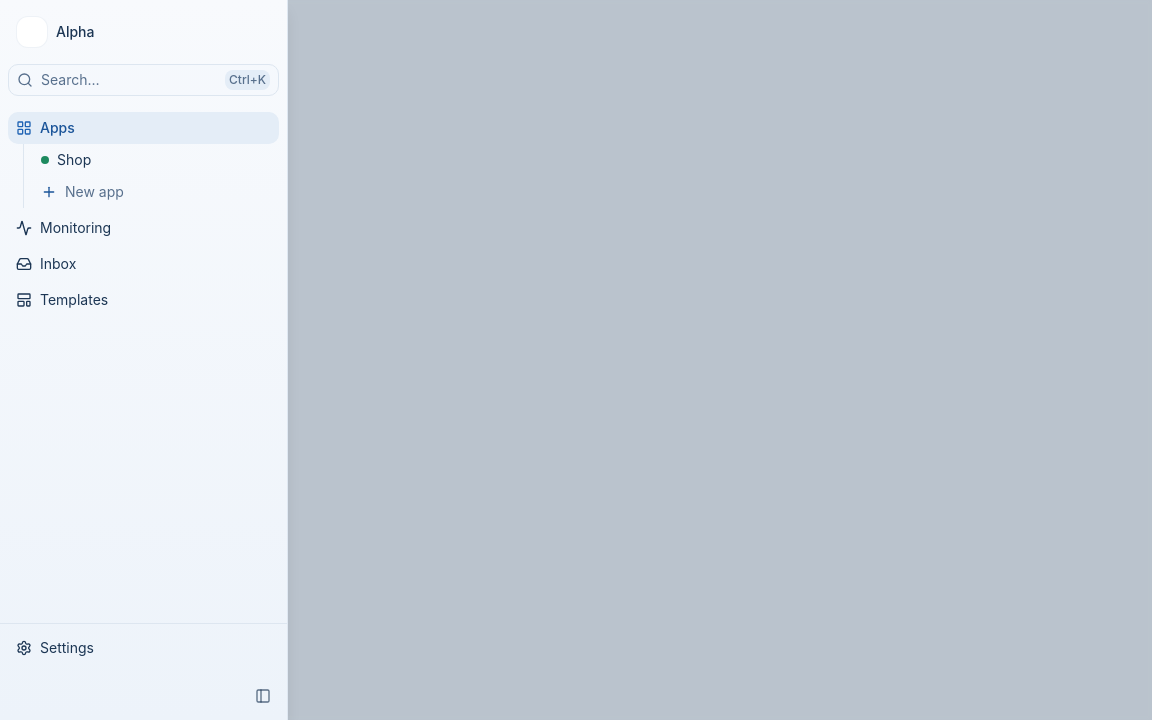
it: AppSidebar › opens the New app chooser from the sidebar, closing the phone sheet first
Click the button "New app". click: (144, 192)
box: [33, 178, 255, 206]
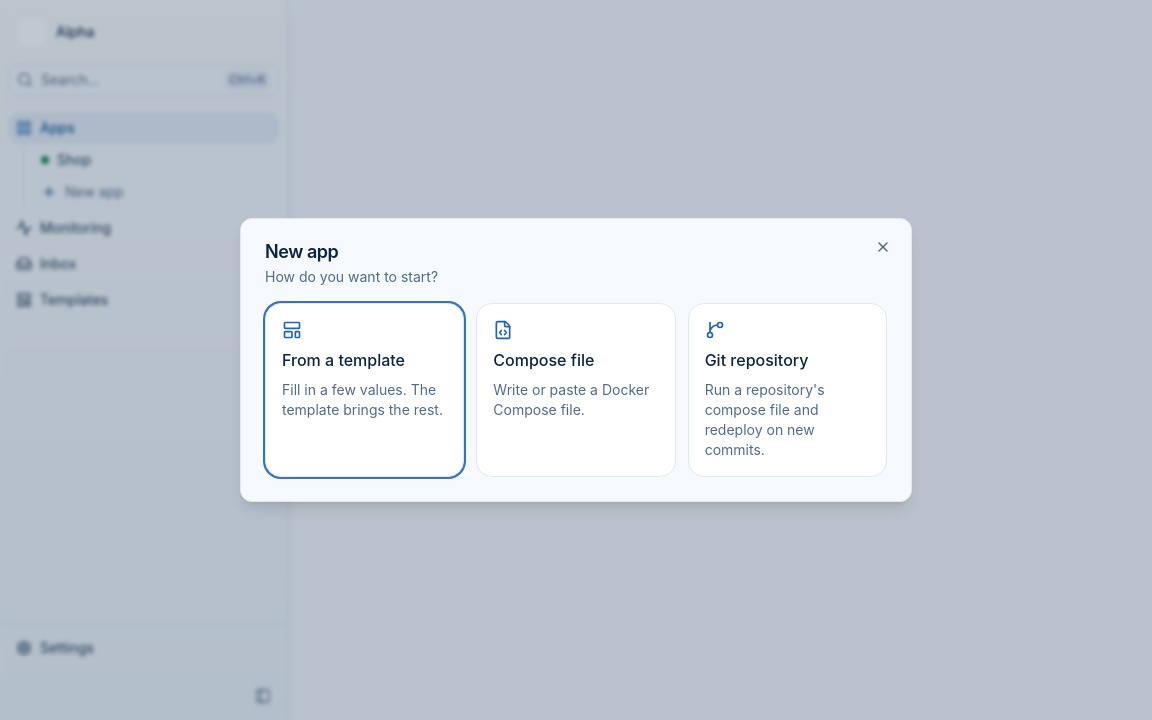
Check: the dialog "New app" shows "How do you want to start?", box [265, 268, 438, 285]
